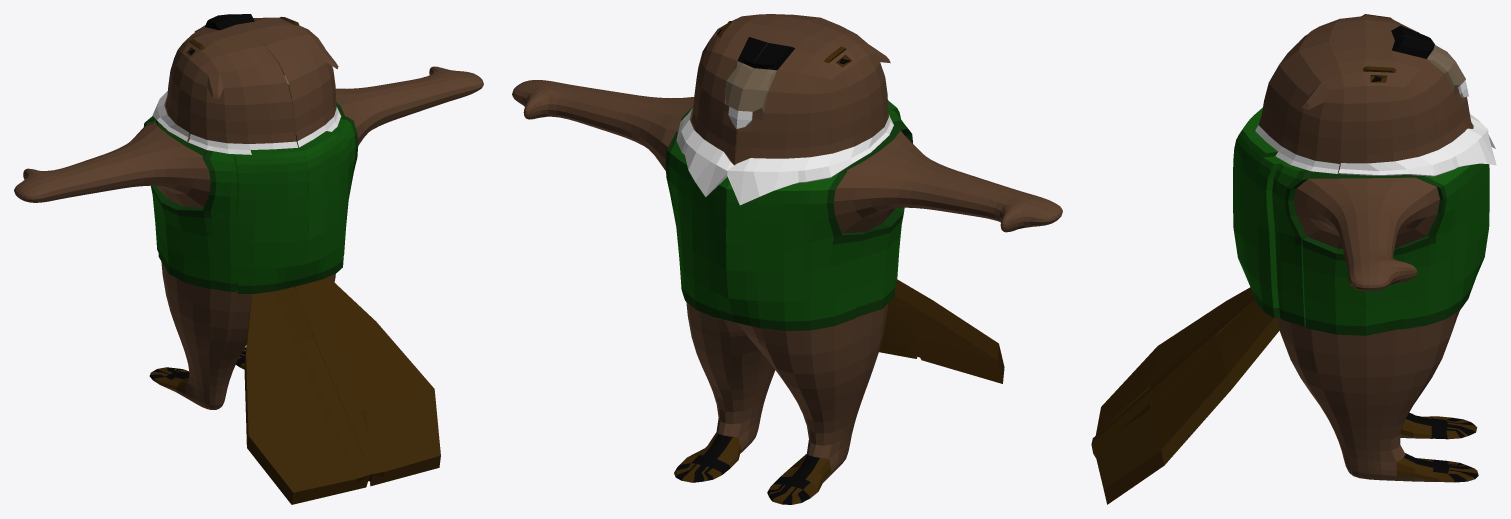
File: Beaver_ethanproctor.fbx
3 renders of one model, left to right at view 1: azimuth 30°, elevation 25°; view 2: azimuth 150°, elevation 25°; view 3: azimuth 270°, elevation 25°, orthographic. The views are drawn at different scales.
Visible parts, largest first — view 1: Cube; view 2: Cube; view 3: Cube.
Boxes of the visible parts, x1=… form: Cube: x1=14, y1=14, x2=483, y2=504; Cube: x1=512, y1=14, x2=1062, y2=504; Cube: x1=1091, y1=14, x2=1496, y2=504.
Bounding box in the file's own units: 542 × 415 × 357.
